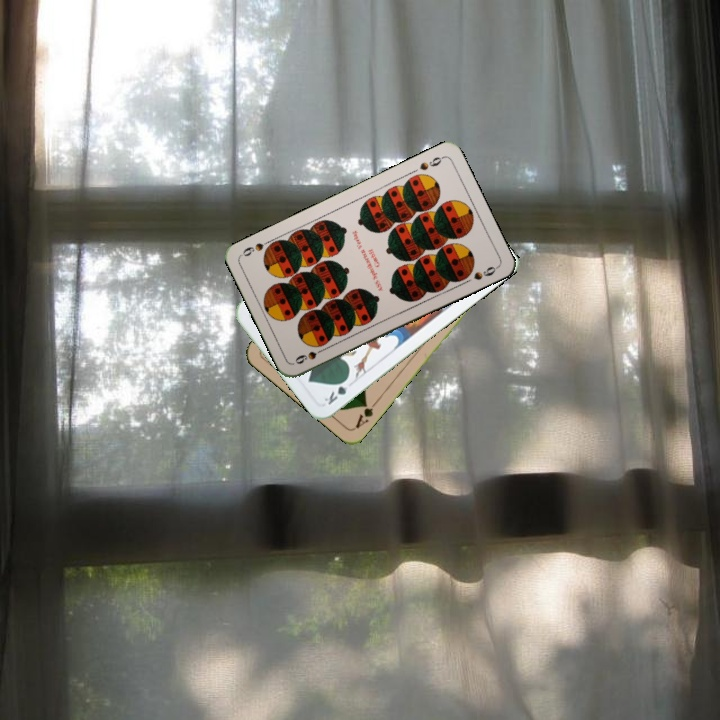GA: (351, 396, 380, 431)
GK: (320, 374, 351, 408)
S9: (291, 343, 329, 367), (415, 152, 446, 173)
